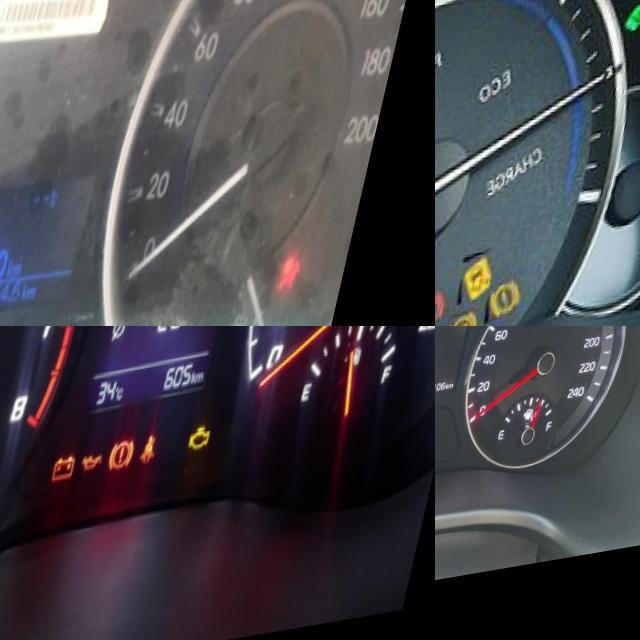Seat Belt: (155, 442, 183, 482)
